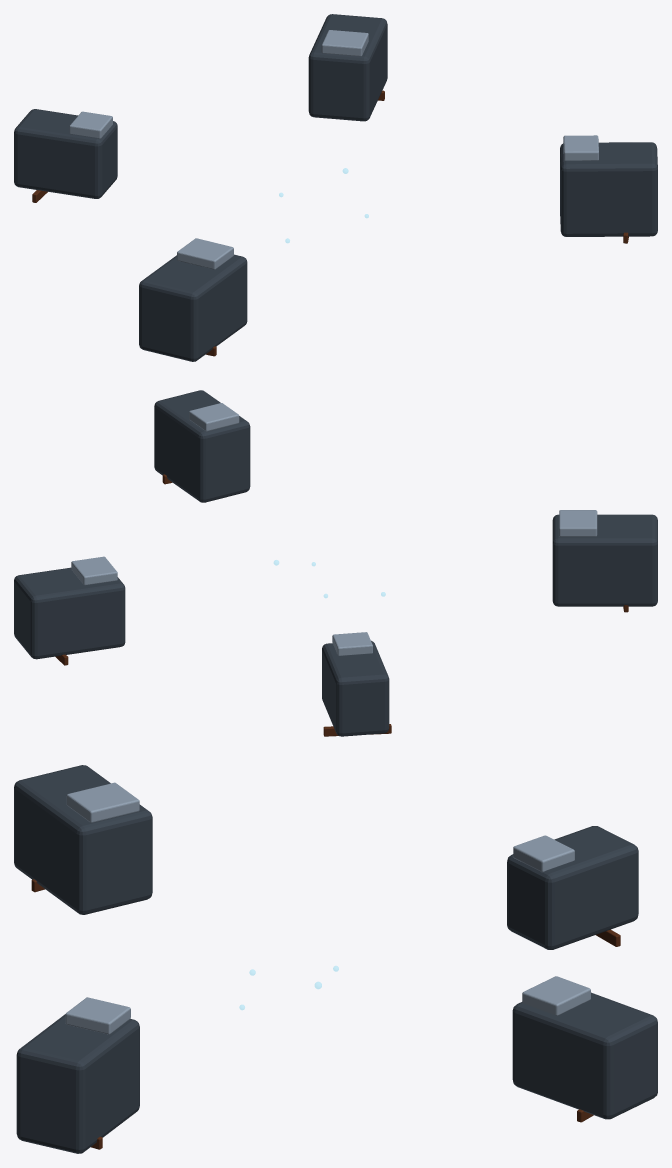
Rendered from ev_core_r11c_detail.glb.
3 renders of one model, top to bottom at view 1: azimuth 30°, elevation 25°; view 2: azimuth 150°, elevation 25°; view 3: azimuth 270°, elevation 25°, orthographic. The views are drawn at different scales.
Parts seen in each view (by area): view 1: PowerSpine_2, PowerSpine_3, PowerSpine_1, PowerSpine_0, PowerSpineCap_2, PowerSpineCap_0, PowerSpineCap_3, PowerSpineCap_1; view 2: PowerSpine_2, PowerSpine_0, PowerSpine_3, PowerSpine_1, PowerSpineCap_2, PowerSpineCap_0, PowerSpineCap_3, PowerSpineCap_1; view 3: PowerSpine_2, PowerSpine_0, PowerSpine_3, PowerSpine_1, PowerSpineCap_2, PowerSpineCap_0, PowerSpineCap_3, PowerSpineCap_1.
Boxes of the visible parts, <box> form: PowerSpine_2: <box>139,254,247,361</box>; PowerSpine_3: <box>560,142,657,236</box>; PowerSpine_1: <box>14,109,117,198</box>; PowerSpine_0: <box>308,14,387,121</box>; PowerSpineCap_2: <box>177,238,233,269</box>; PowerSpineCap_0: <box>321,30,368,56</box>; PowerSpineCap_3: <box>563,135,598,160</box>; PowerSpineCap_1: <box>69,111,112,138</box>; PowerSpine_2: <box>552,514,657,606</box>; PowerSpine_0: <box>14,567,125,659</box>; PowerSpine_3: <box>154,390,250,502</box>; PowerSpine_1: <box>322,640,389,736</box>; PowerSpineCap_2: <box>559,510,597,536</box>; PowerSpineCap_0: <box>71,556,117,585</box>; PowerSpineCap_3: <box>189,403,239,431</box>; PowerSpineCap_1: <box>332,632,372,655</box>; PowerSpine_2: <box>14,765,152,914</box>; PowerSpine_0: <box>512,992,657,1119</box>; PowerSpine_3: <box>16,1014,139,1153</box>; PowerSpine_1: <box>507,826,638,949</box>; PowerSpineCap_2: <box>66,782,139,822</box>; PowerSpineCap_0: <box>522,976,590,1015</box>; PowerSpineCap_3: <box>65,997,130,1034</box>; PowerSpineCap_1: <box>513,835,574,872</box>.
Bounding box in the file's own units: 6.85 × 1.33 × 5.8.
